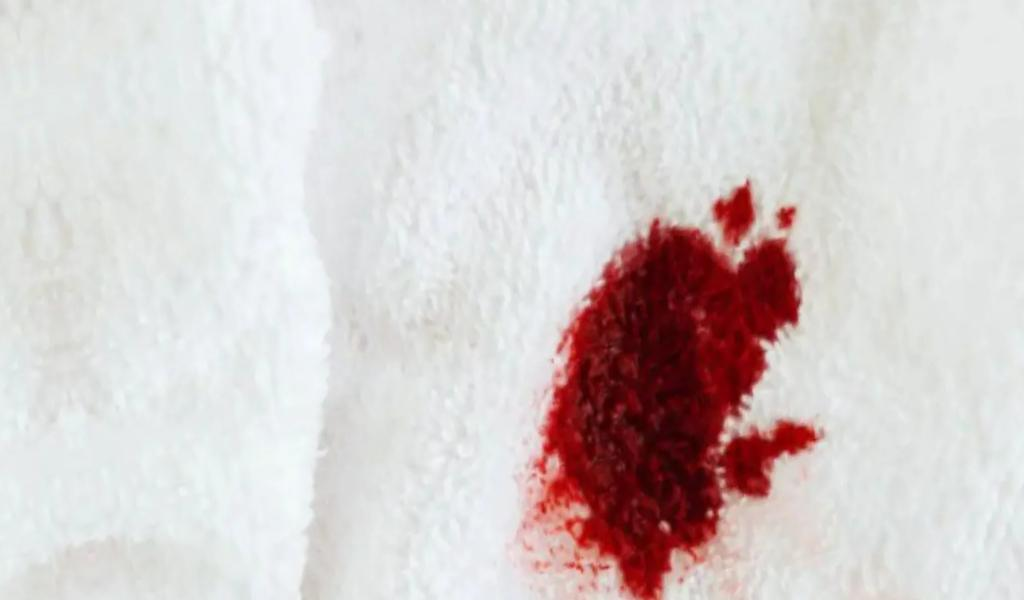stain: (514, 170, 833, 600)
